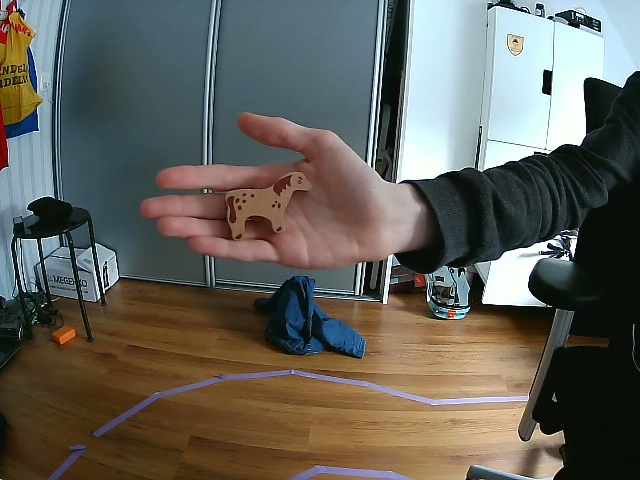paard: (228, 170, 310, 240)
